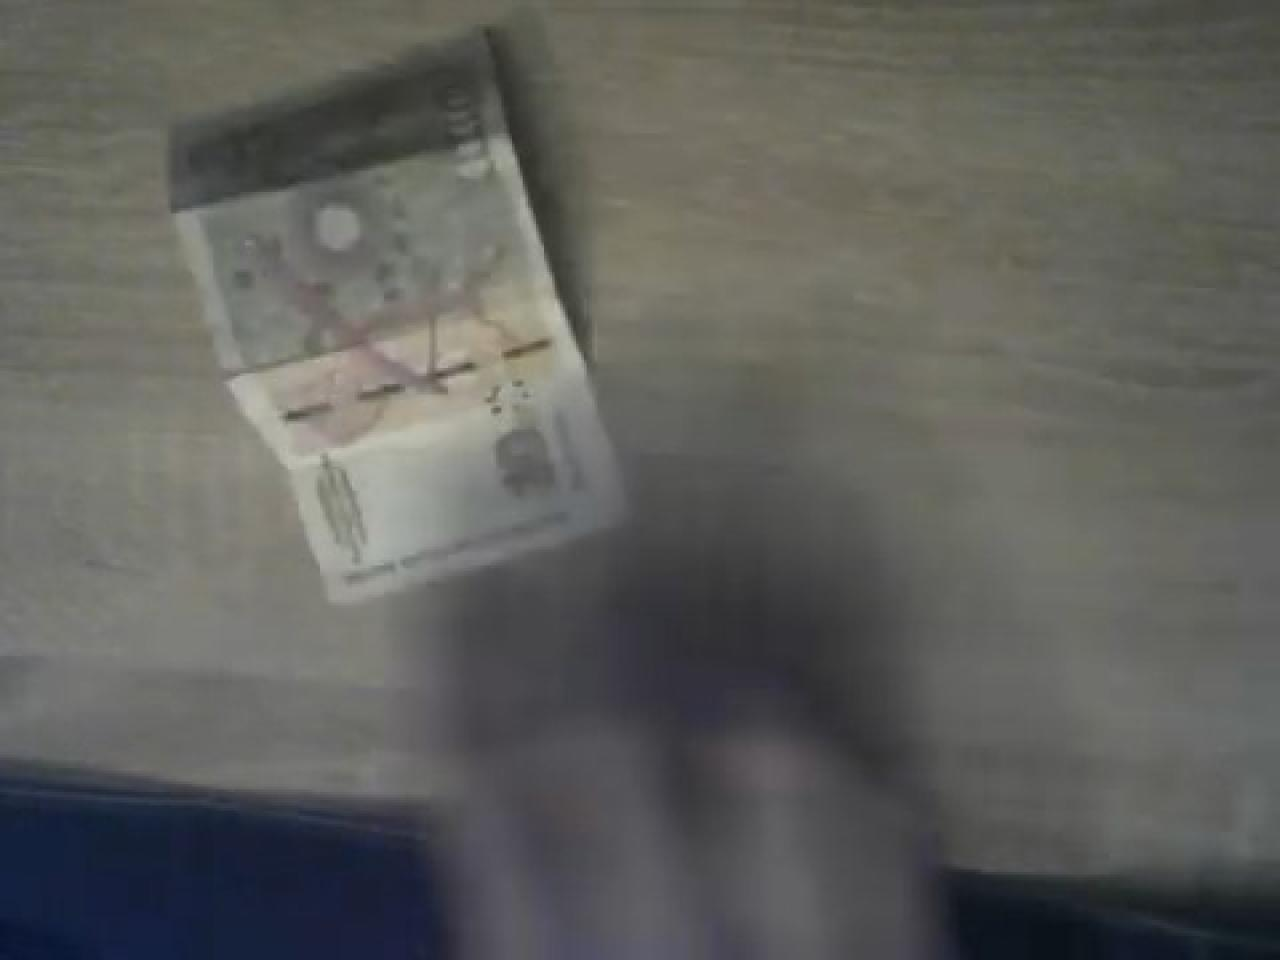10leva: (165, 24, 627, 605)
